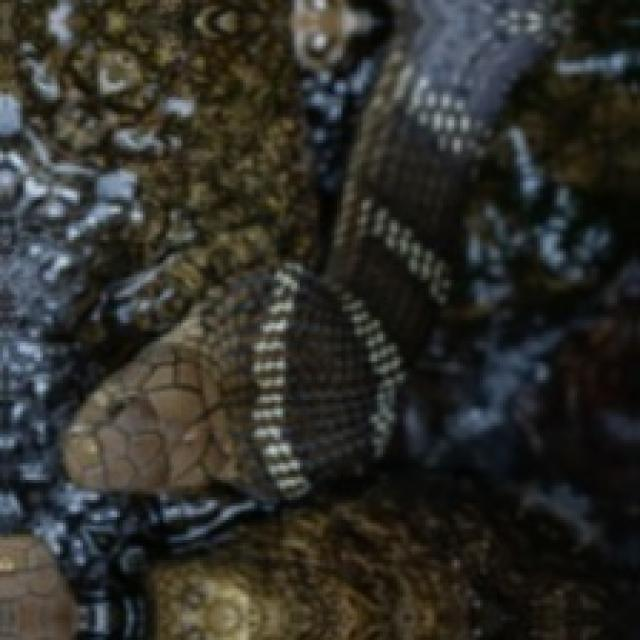king cobra: (63, 0, 549, 500)
